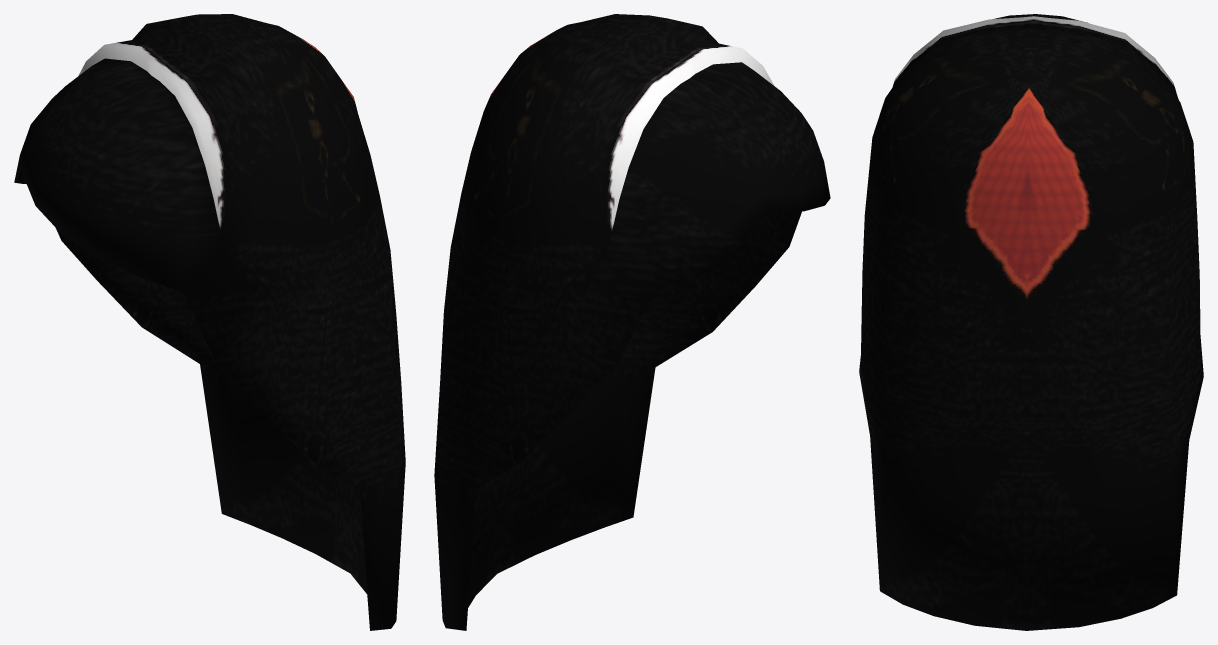
The model's file is LongHairHeadBandBrown.obj.
3 renders of one model, left to right at view 1: azimuth 30°, elevation 25°; view 2: azimuth 150°, elevation 25°; view 3: azimuth 270°, elevation 25°, orthographic. The views are drawn at different scales.
Visible parts, largest first — view 1: Handle1; view 2: Handle1; view 3: Handle1.
Part boxes in pixels (left/top/right/bottom): Handle1: left=14, top=14, right=405, bottom=630; Handle1: left=434, top=14, right=830, bottom=630; Handle1: left=859, top=14, right=1203, bottom=630.
Size of the model in its own units: 1.42 by 2.36 by 1.38.
1 material, 1 textured.
